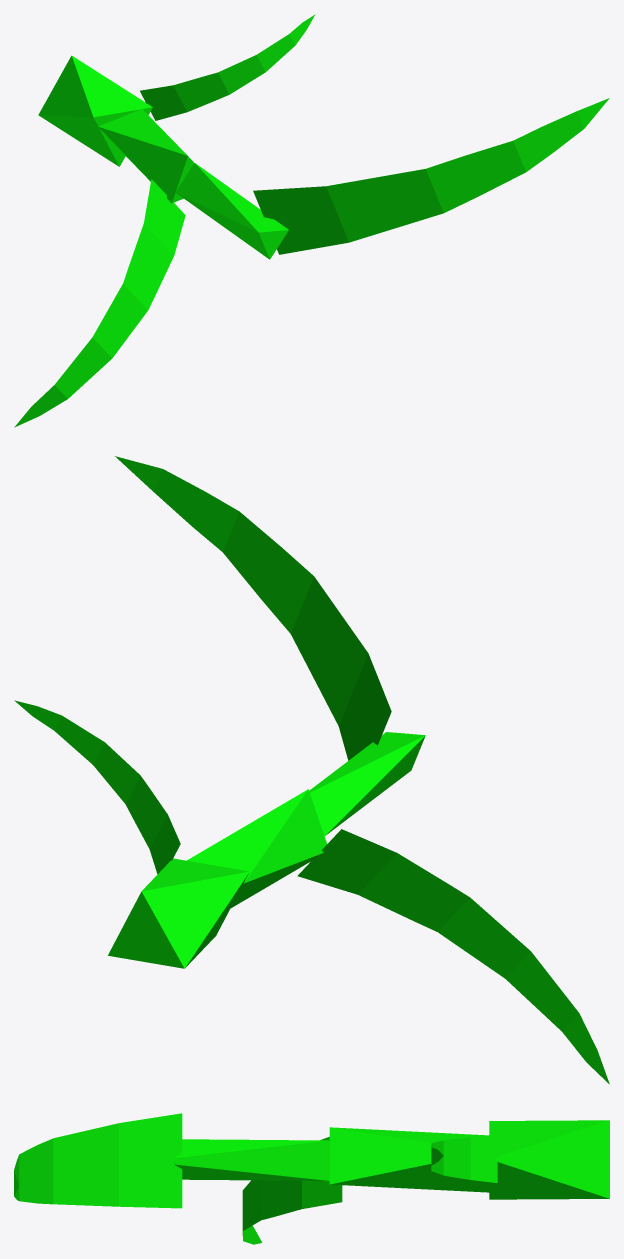
The model's file is usm_10_2.5D_2018-07-24_3.obj.
3 views of the same model, one above another, from view 1: azimuth 30°, elevation 25°; view 2: azimuth 150°, elevation 25°; view 3: azimuth 270°, elevation 25° (orthographic). The views are drawn at different scales.
Visible parts, largest first — view 1: vid_8, vid_6, vid_3, vid_4, vid_7, vid_5; view 2: vid_8, vid_6, vid_3, vid_5, vid_4, vid_7; view 3: vid_8, vid_3, vid_5, vid_7, vid_6, vid_4.
Part boxes in pixels (left/top/right/bottom): vid_8: left=253, top=98, right=609, bottom=254; vid_6: left=14, top=179, right=185, bottom=427; vid_3: left=38, top=55, right=152, bottom=166; vid_4: left=140, top=14, right=315, bottom=120; vid_7: left=175, top=163, right=288, bottom=259; vid_5: left=98, top=109, right=193, bottom=203; vid_8: left=115, top=456, right=391, bottom=760; vid_6: left=297, top=829, right=609, bottom=1084; vid_3: left=108, top=858, right=249, bottom=968; vid_5: left=187, top=789, right=326, bottom=907; vid_4: left=14, top=700, right=180, bottom=874; vid_7: left=309, top=732, right=425, bottom=835; vid_8: left=14, top=1113, right=182, bottom=1208; vid_3: left=489, top=1120, right=609, bottom=1199; vid_5: left=329, top=1127, right=489, bottom=1192; vid_7: left=174, top=1139, right=329, bottom=1180; vid_6: left=242, top=1137, right=342, bottom=1244; vid_4: left=431, top=1135, right=497, bottom=1182.
Size of the model in its own units: 20.34 by 11.46 by 18.79.
